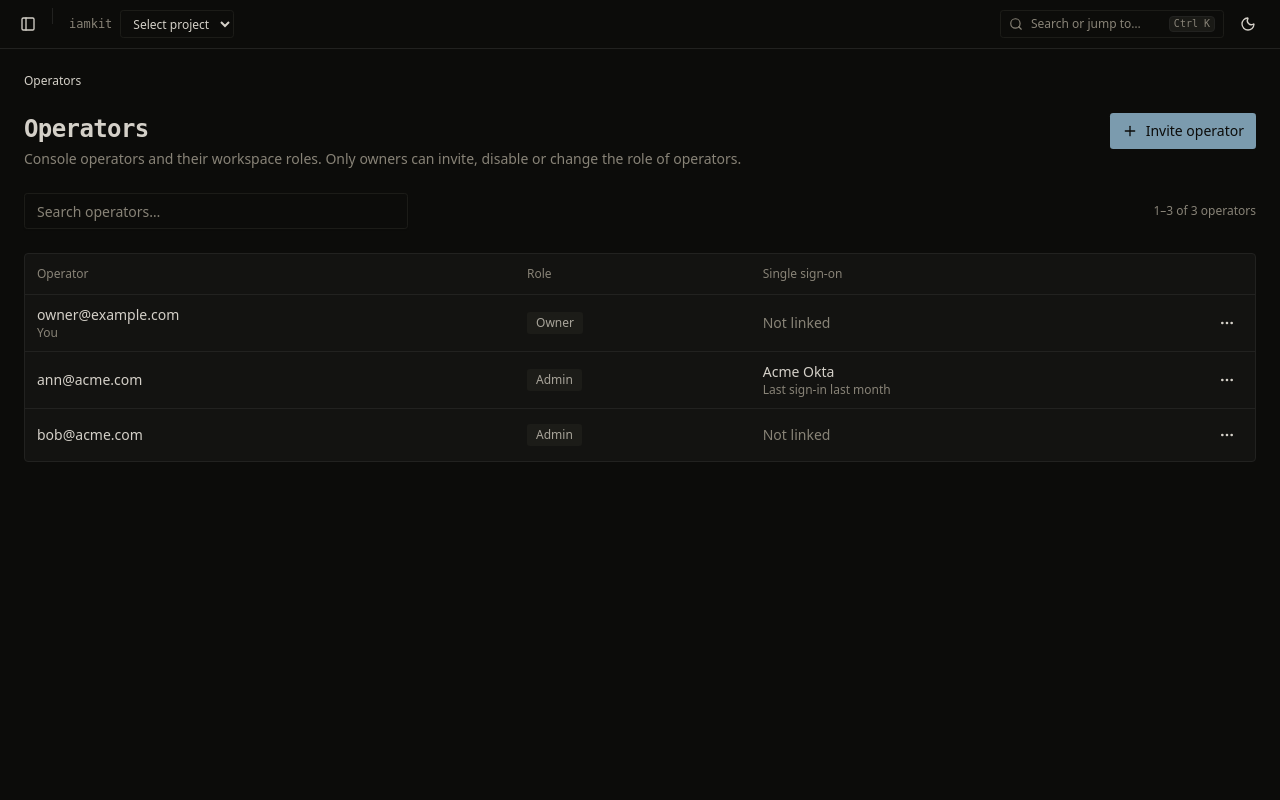
Test: keeps the last owner an owner
Expected: the text "ann@acme.com" is shown, [37,370,142,388]
What coordinates should you click on to do the following:
click the button named "Actions for owner@example.com"
I would click on:
 (1227, 322)
Its box is [1211,306,1243,338].
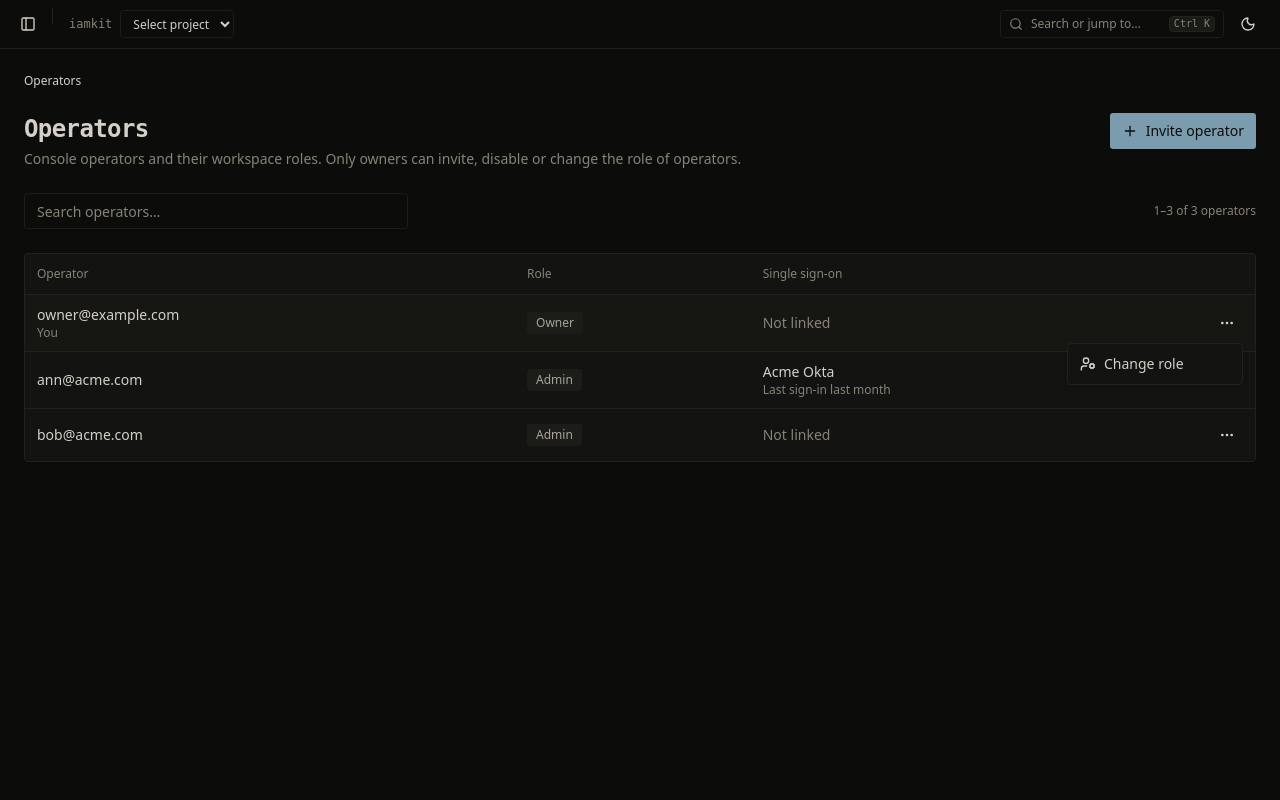
What coordinates should you click on to do the following:
click the menu item "Change role"
I would click on:
 (1132, 364)
Its box is [1080,354,1184,373].
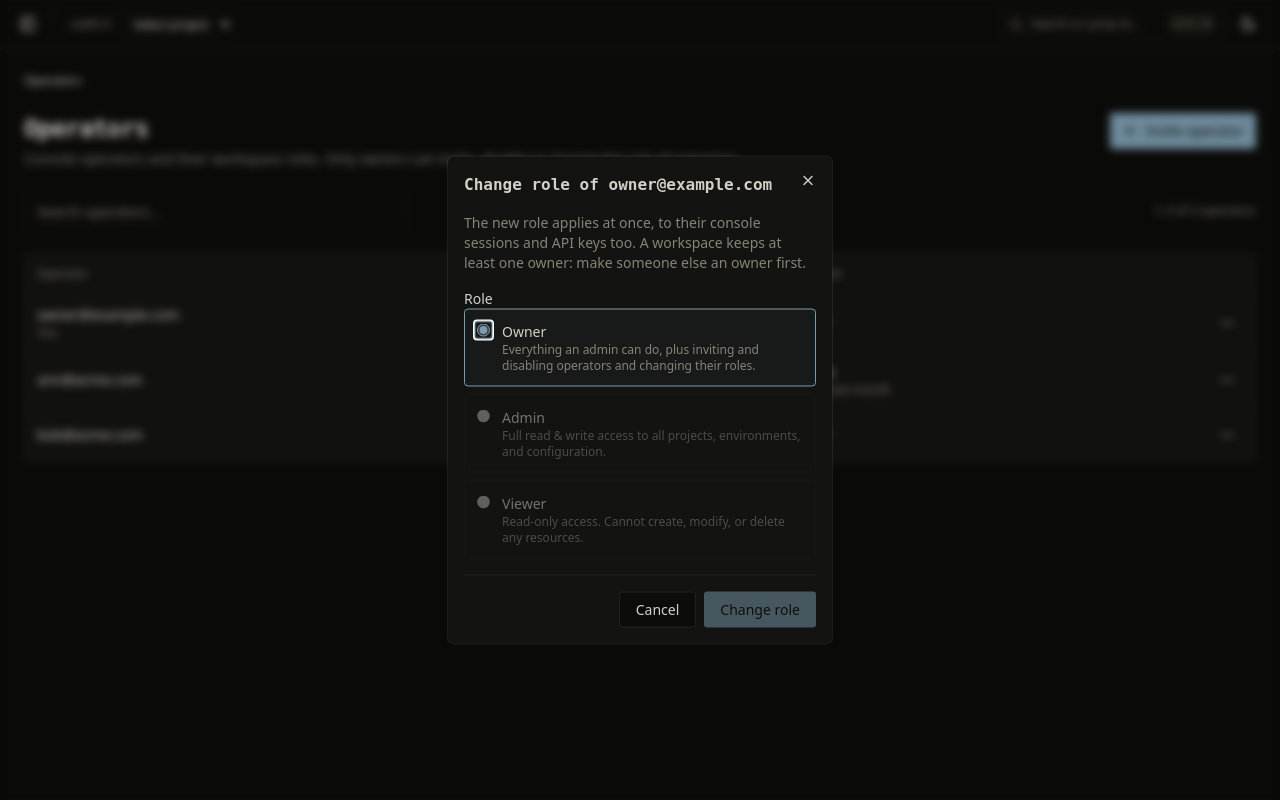
Now the text "make someone else an owner first" is shown, box [464,232,806,272]
Now the radio button labelled "Admin" is disabled, box [477,410,490,422]
Now the radio button labelled "Viewer" is disabled, box [477,496,490,508]
